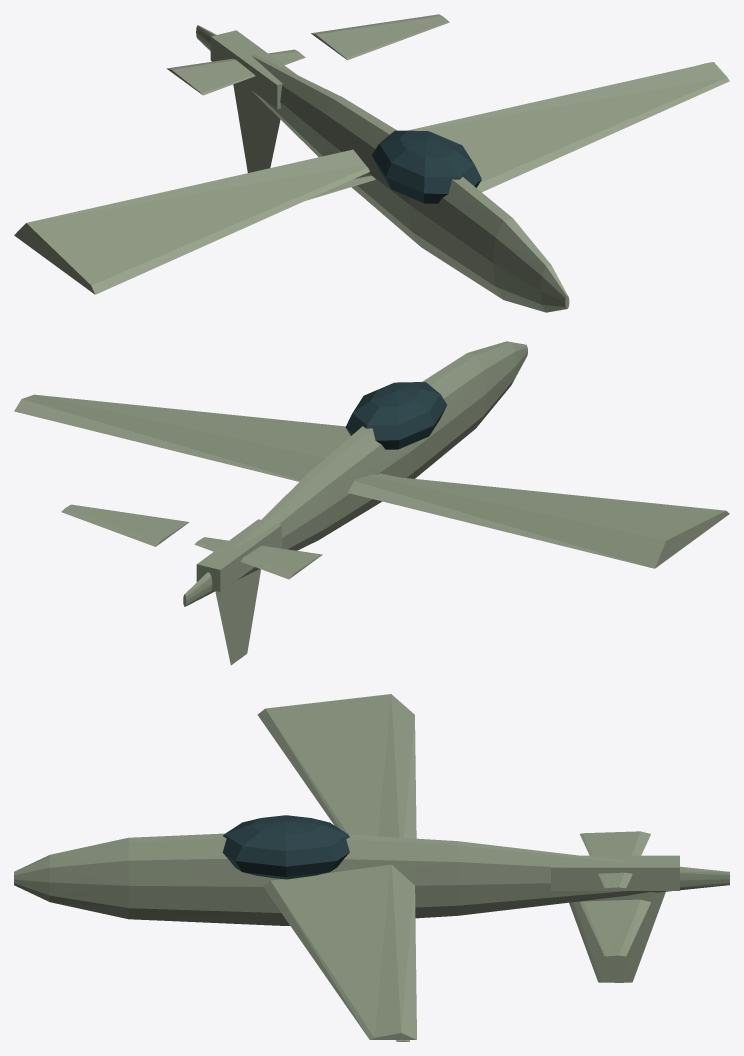
The picture shows the model from 3 angles, top to bottom: view 1: azimuth 30°, elevation 25°; view 2: azimuth 150°, elevation 25°; view 3: azimuth 270°, elevation 25°; orthographic projection. The views are drawn at different scales.
Visible parts, largest first — view 1: Wing_L, Fuselage, Wing_R, Cockpit, Elevator_R, Rudder, TailBoom, Elevator_L; view 2: Wing_L, Fuselage, Wing_R, Cockpit, Rudder, TailBoom, Elevator_R, Elevator_L; view 3: Fuselage, Wing_R, Wing_L, Cockpit, TailBoom, Rudder, Elevator_R, Elevator_L.
Boxes of the visible parts, x1,y1,x2,y2 form: Wing_L: (14, 149, 369, 294); Fuselage: (196, 25, 569, 312); Wing_R: (408, 62, 729, 192); Cockpit: (372, 130, 481, 203); Elevator_R: (311, 14, 449, 60); Rudder: (233, 82, 280, 172); TailBoom: (210, 30, 296, 109); Elevator_L: (166, 49, 305, 95); Wing_L: (348, 474, 729, 568); Fuselage: (183, 341, 527, 606); Wing_R: (14, 394, 350, 481); Cockpit: (345, 382, 446, 449); Rudder: (215, 569, 260, 665); TailBoom: (196, 519, 281, 592); Elevator_R: (61, 504, 189, 546); Elevator_L: (194, 537, 322, 579); Fuselage: (14, 833, 729, 925); Wing_R: (263, 864, 416, 1039); Wing_L: (257, 694, 416, 838); Cockpit: (222, 815, 349, 879); TailBoom: (551, 855, 679, 890); Rudder: (569, 891, 665, 982); Elevator_R: (580, 899, 650, 956); Elevator_L: (580, 831, 650, 888).
Size of the model in its own units: 11.9 by 2.73 by 11.
